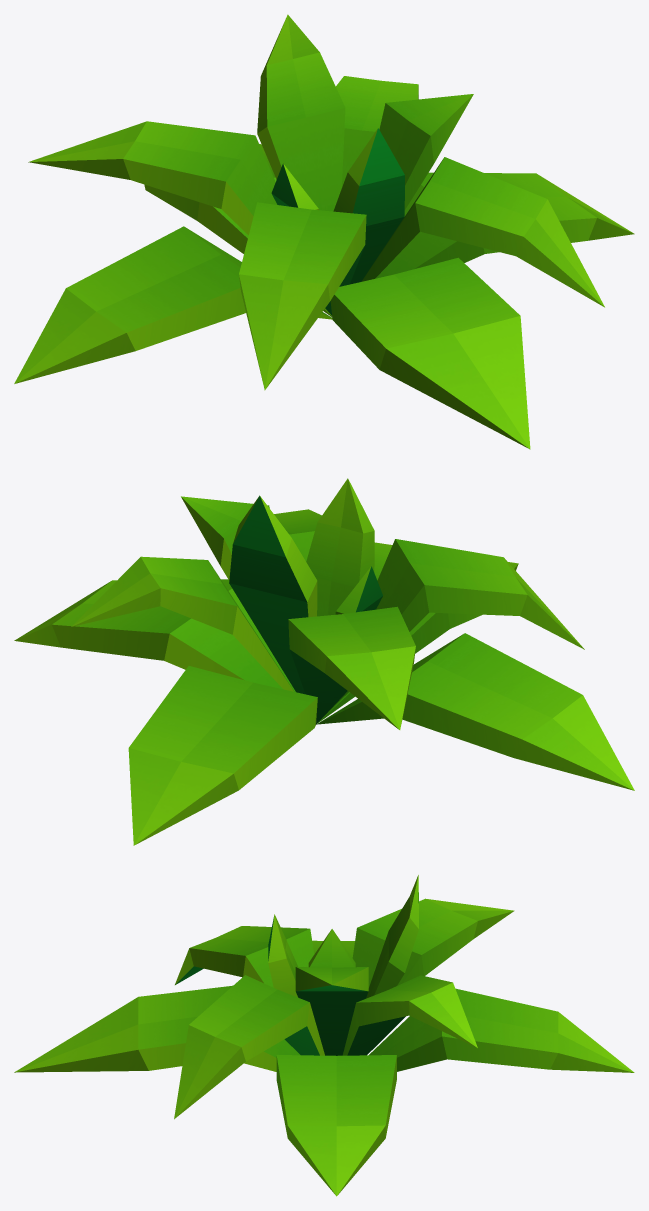
File: GL-Plant-02-LOD2.fbx
3 views of the same model, one above another, from view 1: azimuth 30°, elevation 25°; view 2: azimuth 150°, elevation 25°; view 3: azimuth 270°, elevation 25° (orthographic). The views are drawn at different scales.
Visible parts, largest first — view 1: GL_Plant_02; view 2: GL_Plant_02; view 3: GL_Plant_02.
Part boxes in pixels (bbox=[...]): GL_Plant_02: bbox=[14, 14, 634, 449]; GL_Plant_02: bbox=[14, 478, 634, 845]; GL_Plant_02: bbox=[14, 875, 634, 1196].
Size of the model in its own units: 2.4 by 0.9851 by 2.58.
